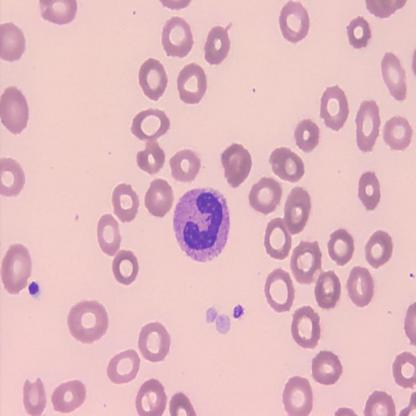Band Neutrophil: (172, 185, 232, 266)
